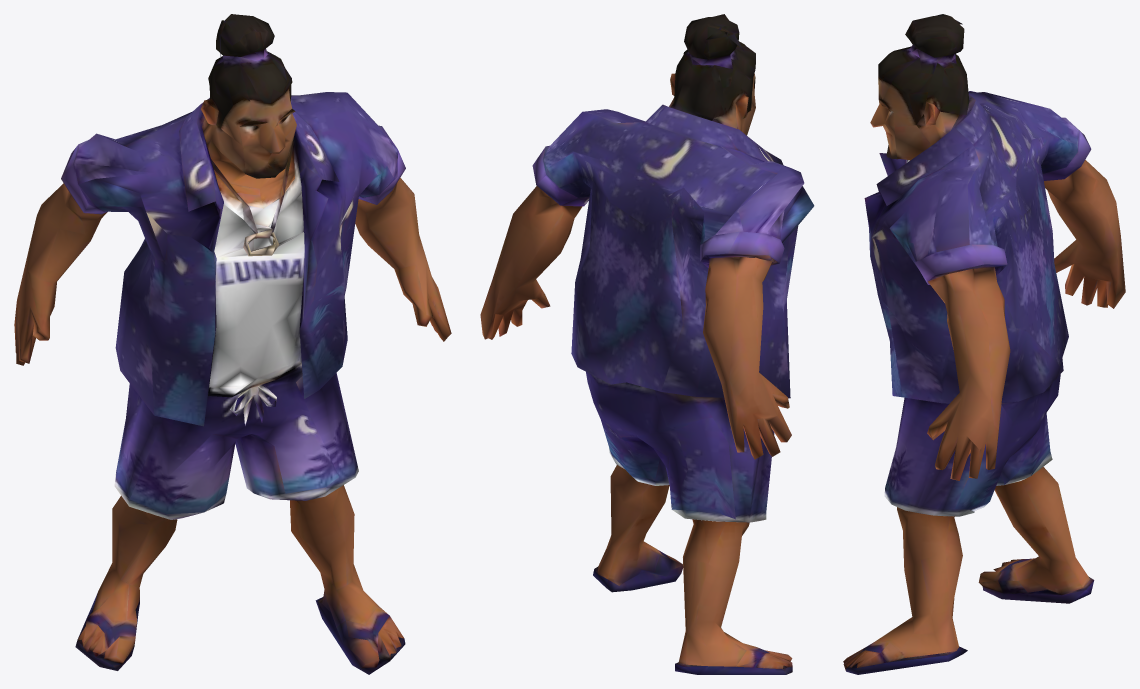
The model's file is fan09.glb.
The picture shows the model from 3 angles, left to right: view 1: azimuth 30°, elevation 25°; view 2: azimuth 150°, elevation 25°; view 3: azimuth 270°, elevation 25°; orthographic projection. The views are drawn at different scales.
Parts seen in each view (by area): view 1: material_proxy; view 2: material_proxy; view 3: material_proxy.
Boxes of the visible parts, bbox=[...] form: material_proxy: bbox=[14, 14, 451, 674]; material_proxy: bbox=[480, 14, 814, 674]; material_proxy: bbox=[843, 14, 1125, 674].
Size of the model in its own units: 0.5846 by 0.9717 by 0.4004.
Materials: 1 (1 with a texture image).
